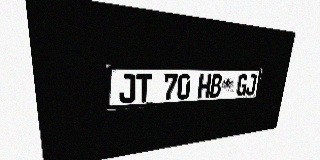0: (176, 74, 191, 100)
7: (162, 74, 178, 101)
B: (209, 74, 222, 98)
G: (236, 74, 248, 96)
H: (197, 74, 211, 98)
J: (119, 74, 136, 103), (245, 74, 257, 95)
T: (136, 74, 152, 102)
